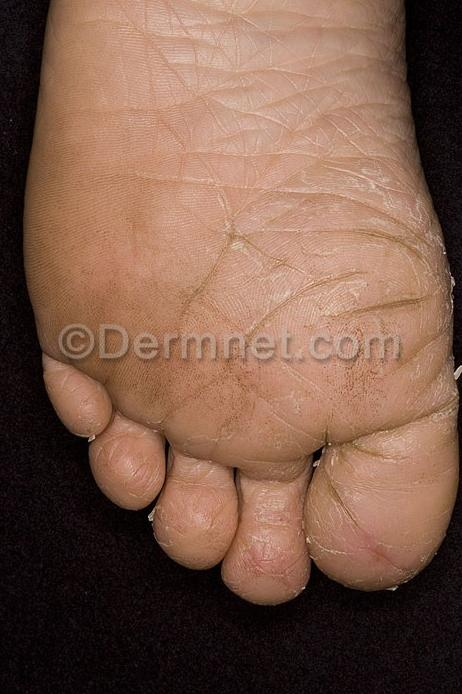liquenificacion 1: (85, 0, 444, 220)
xerosis 2: (43, 151, 462, 600)
